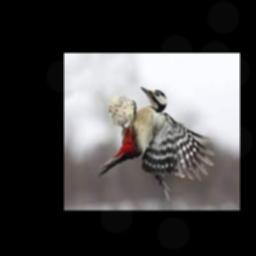Woodpecker: (98, 87, 215, 200)
